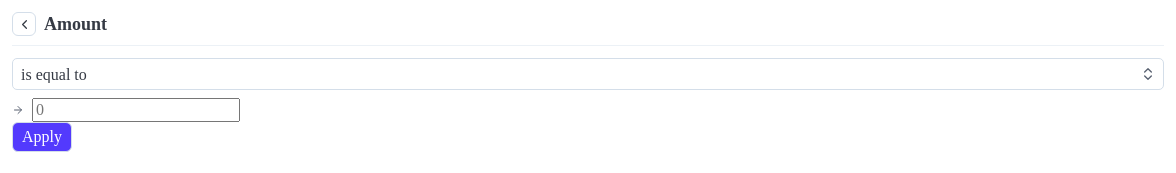
Scenario: FilterEditor › rounds an amount on blur
Step 1. Type "12.252665" into the number field named "Filter value" → [136, 110], box 32,98 -> 240,122
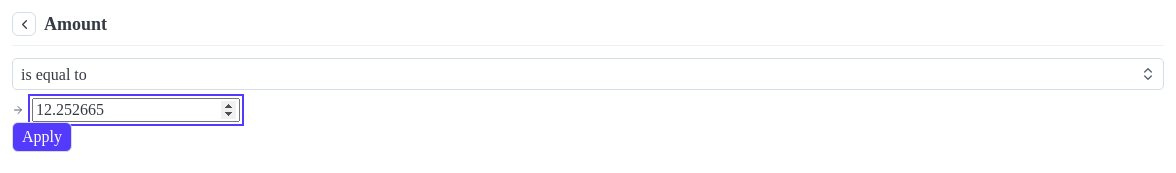
Step 2. Press Tab
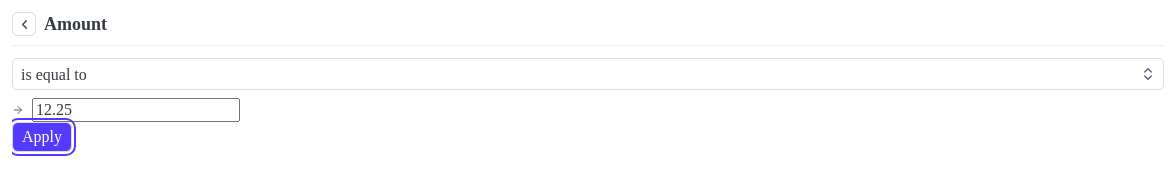
expect the number field named "Filter value" holds "12.25": met, box 32,98 -> 240,122
